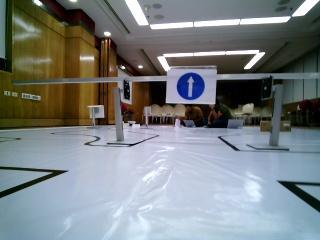straight: (164, 68, 217, 102)
